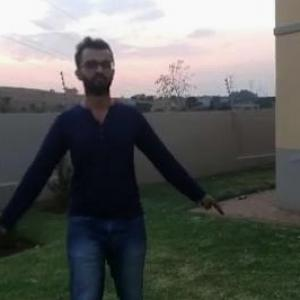land: (1, 46, 202, 299)
